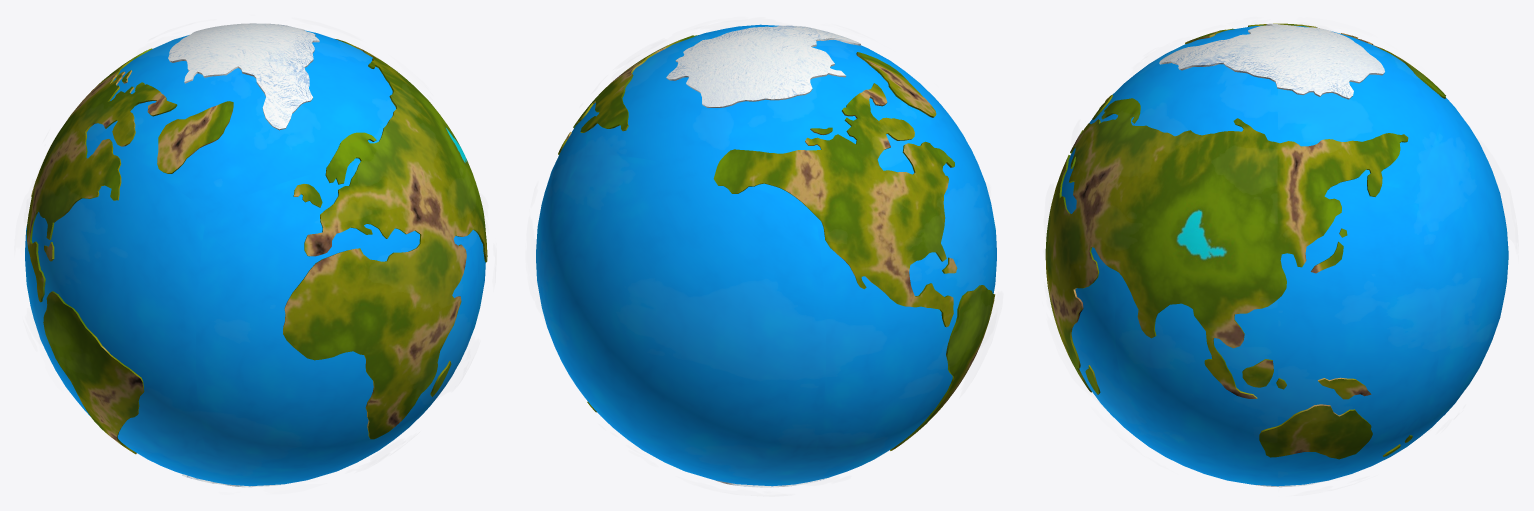
File: earth.glb
3 views of the same model, side by side, from view 1: azimuth 30°, elevation 25°; view 2: azimuth 150°, elevation 25°; view 3: azimuth 270°, elevation 25° (orthographic).
Parts seen in each view (by area): view 1: Ocean, CONT_Extrude, SP_Extrude; view 2: Ocean, CONT_Extrude, SP_Extrude; view 3: Ocean, CONT_Extrude, SP_Extrude.
Boxes of the visible parts, x1,y1,x2,y2 form: Ocean: (25,30,485,486); CONT_Extrude: (26,39,487,454); SP_Extrude: (168,23,319,130); Ocean: (536,24,996,486); CONT_Extrude: (558,35,995,450); SP_Extrude: (666,25,860,107); Ocean: (1061,25,1508,486); CONT_Extrude: (1045,23,1445,459); SP_Extrude: (1159,23,1384,99).
Bounding box in the file's own units: 1040 × 1040 × 1040.
4 materials, 3 textured.
